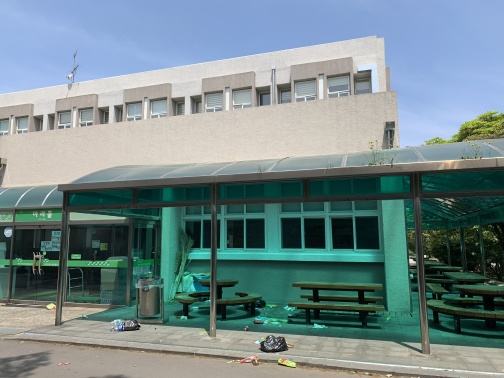Ara Hall: (1, 139, 504, 359)
